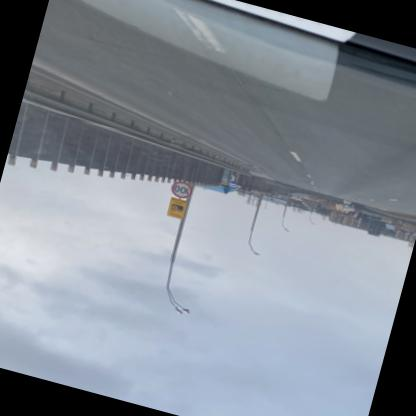speedlimit: (170, 180, 194, 200)
